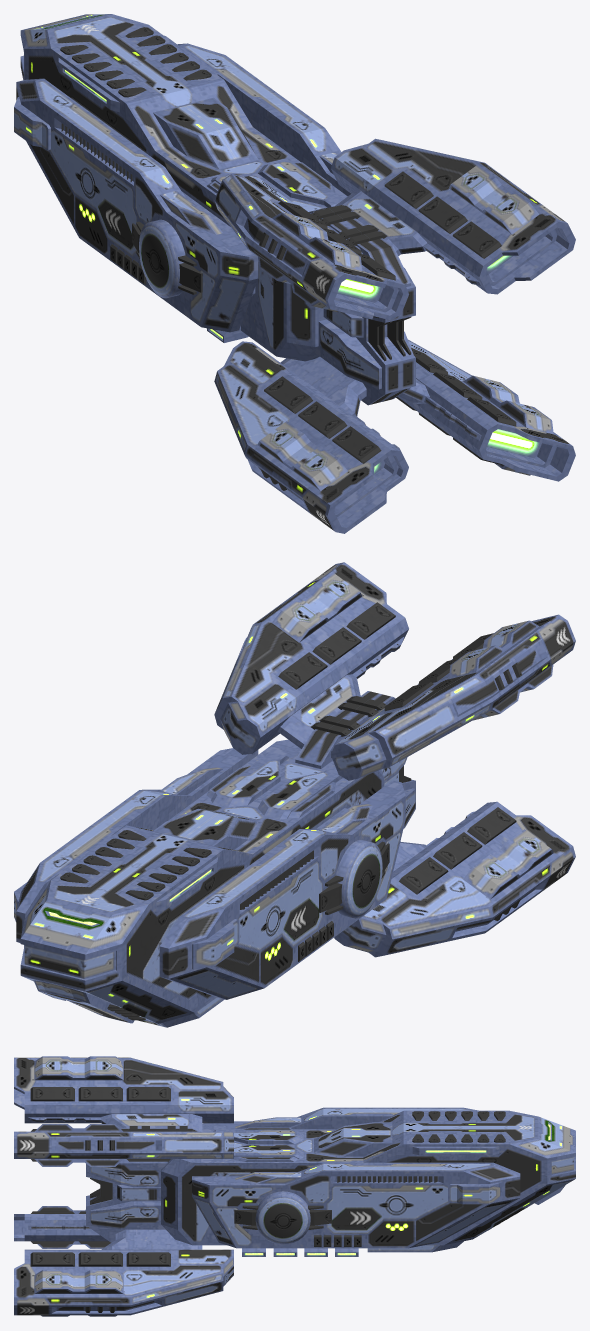
File: liner-freeholder.glb
3 renders of one model, top to bottom at view 1: azimuth 30°, elevation 25°; view 2: azimuth 150°, elevation 25°; view 3: azimuth 270°, elevation 25°, orthographic. The views are drawn at different scales.
Parts seen in each view (by area): view 1: hull; view 2: hull; view 3: hull.
Part boxes in pixels (box(x1,y1,x2,y2)): hull: box(14, 14, 575, 533); hull: box(14, 562, 575, 1027); hull: box(14, 1056, 575, 1316).
Bounding box in the file's own units: 0.3598 × 0.3785 × 1.
Materials: 1 (1 with a texture image).
